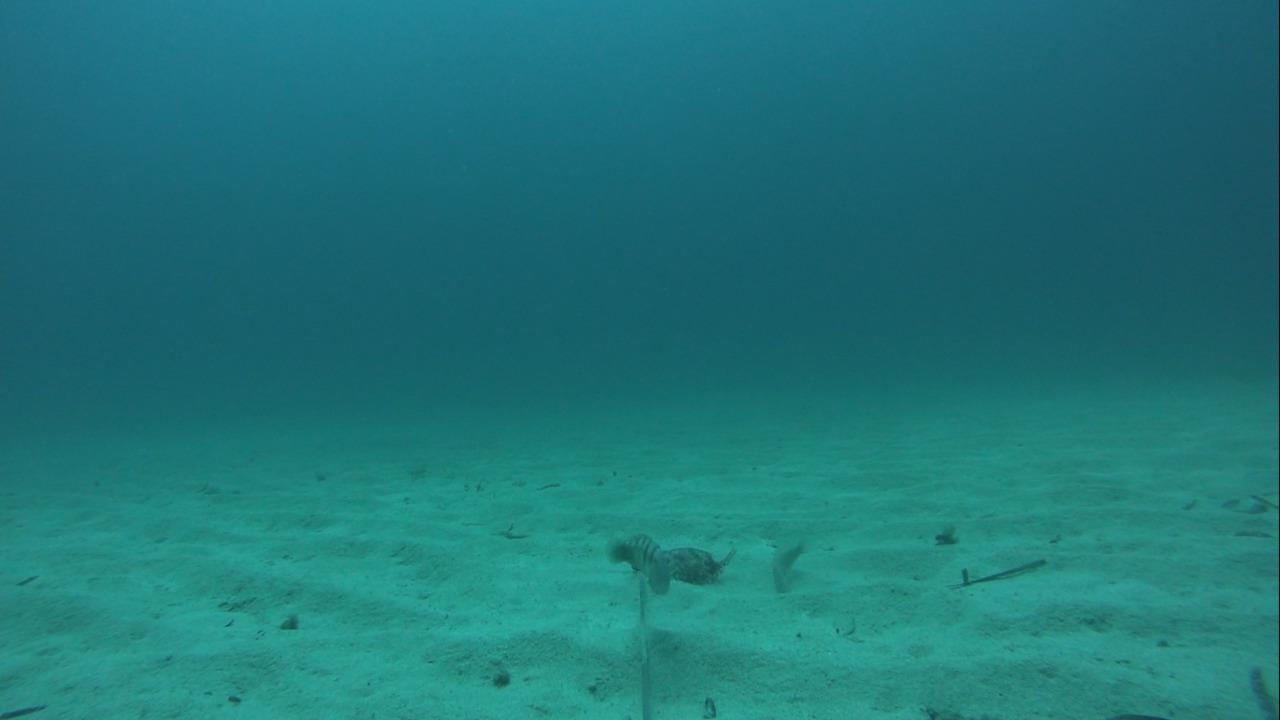raor: (597, 528, 678, 590), (763, 534, 812, 597)
